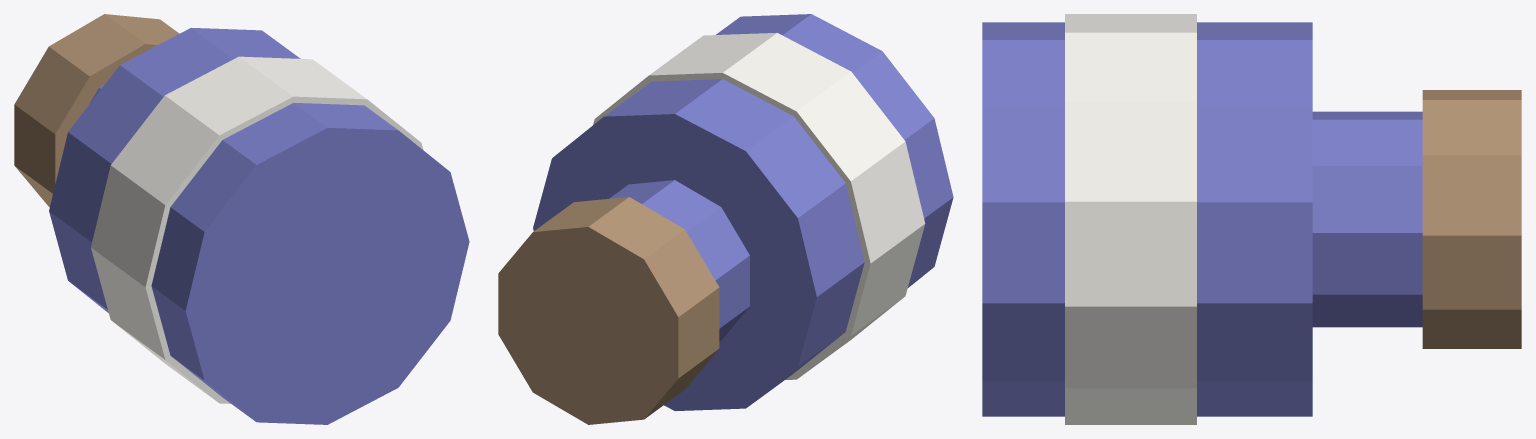
File: blue_dye_held.gltf
3 views of the same model, side by side, from view 1: azimuth 30°, elevation 25°; view 2: azimuth 150°, elevation 25°; view 3: azimuth 270°, elevation 25° (orthographic). The views are drawn at different scales.
Parts seen in each view (by area): view 1: colors_blue_dye_held; view 2: colors_blue_dye_held; view 3: colors_blue_dye_held.
Part boxes in pixels (box(x1,y1,x2,y2)): colors_blue_dye_held: box(14, 14, 469, 424); colors_blue_dye_held: box(498, 14, 953, 424); colors_blue_dye_held: box(982, 14, 1521, 424).
Size of the model in its own units: 0.075 by 0.075 by 0.098.
